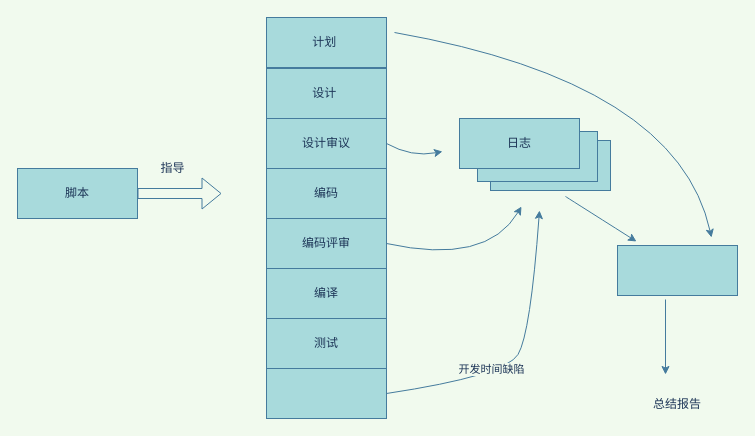
Some shapes in this 755 by 436 pixel diagram are drawn without their labels. Here are the shapes that lost their labels. From the top down, the box of each, then its label:
(616, 244, 738, 296): 计划 总结
(266, 368, 386, 418): 事后检查
